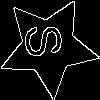S: (23, 21, 72, 59)
